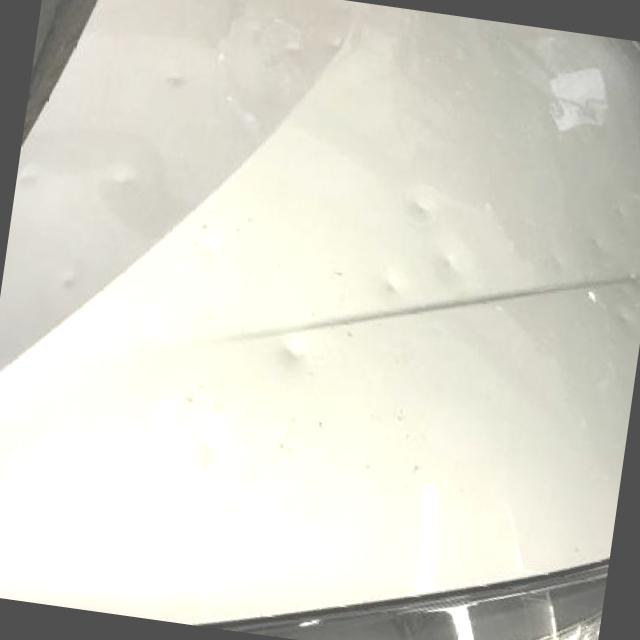dent: (432, 242, 465, 282), (278, 335, 308, 366), (202, 437, 224, 468), (60, 266, 84, 294), (17, 165, 44, 189), (408, 198, 437, 220), (200, 236, 227, 256), (546, 253, 568, 276), (381, 274, 402, 298), (114, 166, 139, 186), (616, 304, 634, 326), (588, 233, 604, 250), (614, 203, 629, 219)
